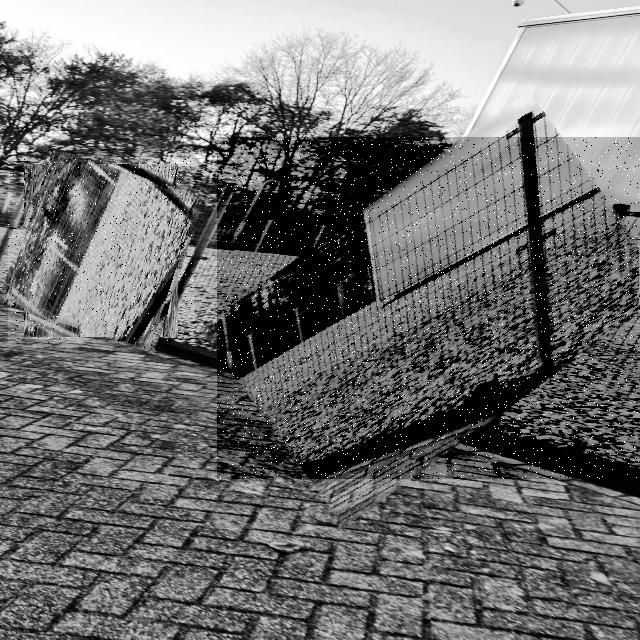fences: (217, 137, 640, 479), (8, 157, 194, 343)
